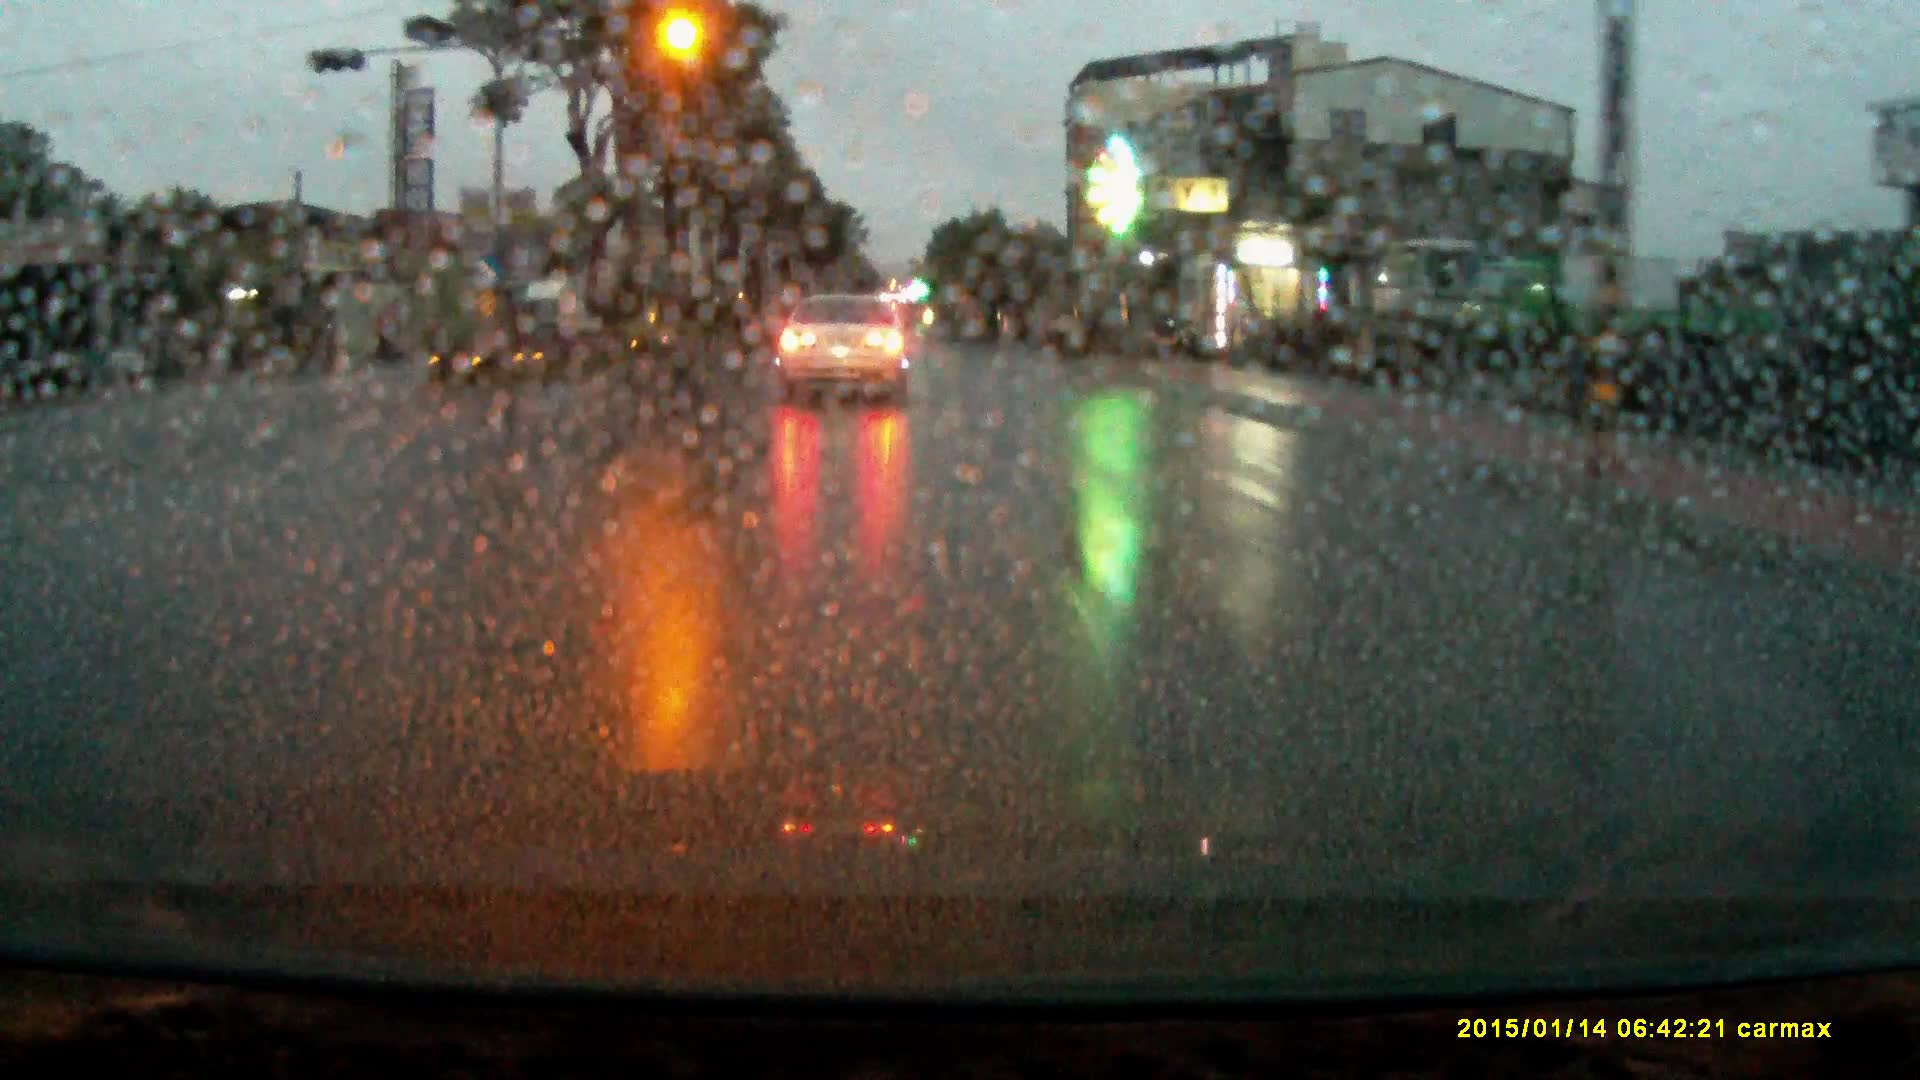vehicle: (1462, 252, 1688, 355), (777, 291, 916, 407), (1375, 231, 1495, 357), (524, 273, 597, 347)
